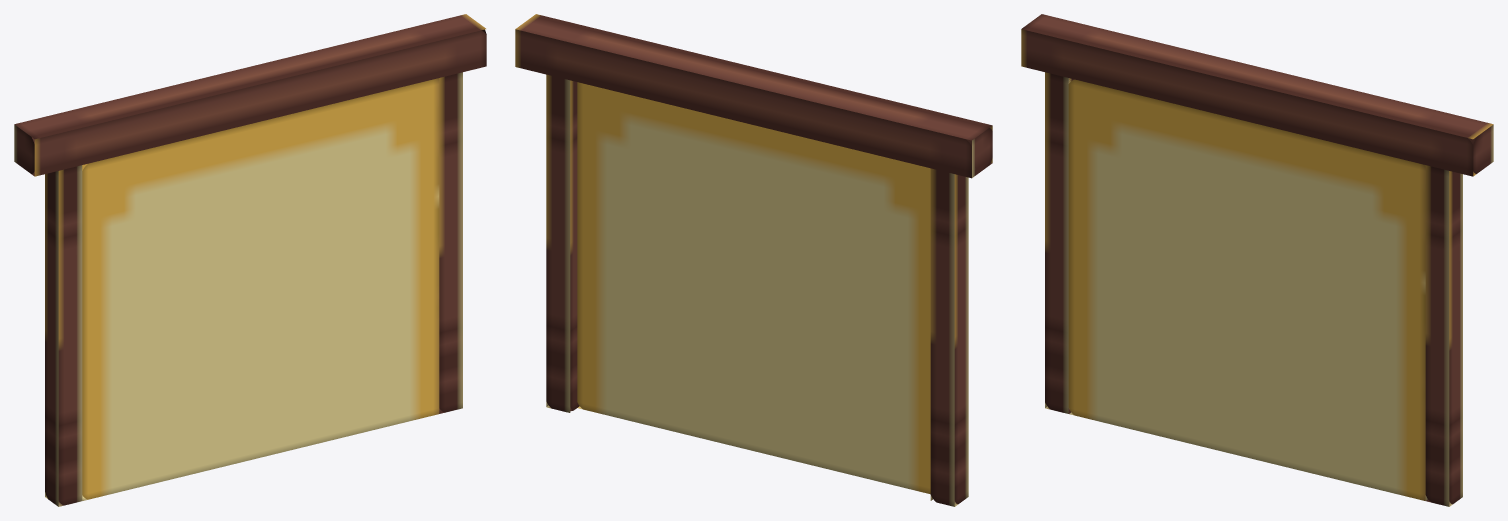
File: TeleportDoor.obj
3 renders of one model, left to right at view 1: azimuth 30°, elevation 25°; view 2: azimuth 150°, elevation 25°; view 3: azimuth 330°, elevation 25°, orthographic.
Visible parts, largest first — view 1: cube; view 2: cube; view 3: cube.
Boxes of the visible parts, x1,y1,x2,y2 form: cube: (14,14,486,506); cube: (515,14,992,506); cube: (1021,14,1493,506).
Bounding box in the file's own units: 2.38 × 1.88 × 0.1875.
